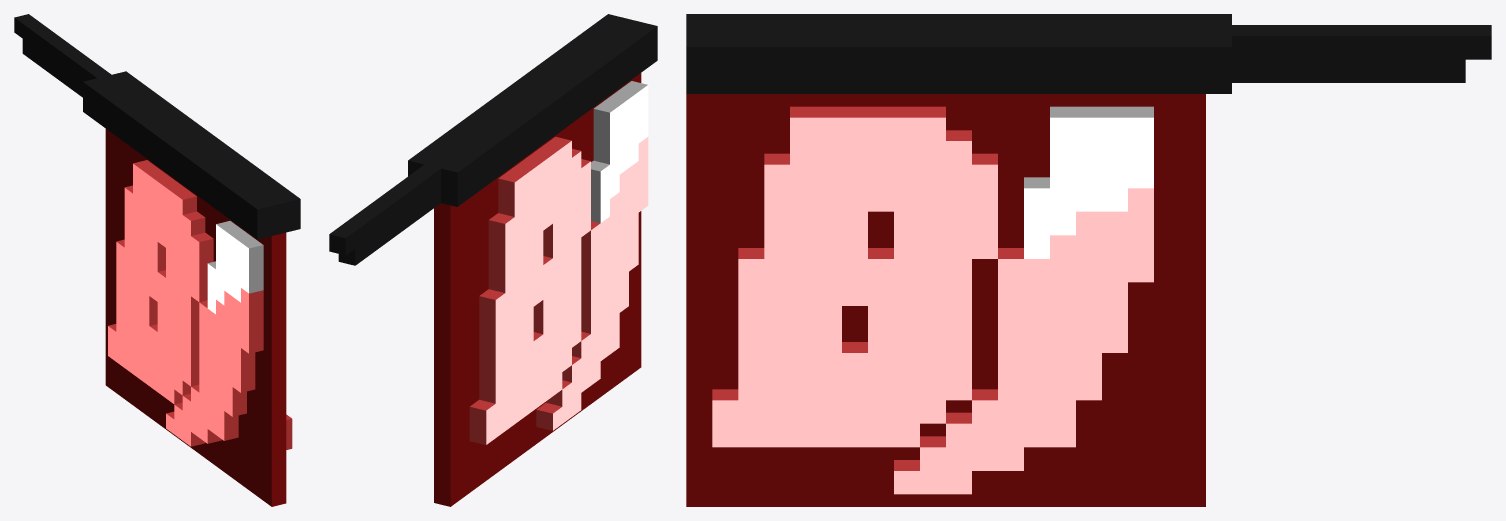
File: bjSign.glb
3 views of the same model, side by side, from view 1: azimuth 30°, elevation 25°; view 2: azimuth 150°, elevation 25°; view 3: azimuth 270°, elevation 25° (orthographic). The views are drawn at different scales.
Visible parts, largest first — view 1: ObjObject; view 2: ObjObject; view 3: ObjObject.
Part boxes in pixels (x1,y1,x2,y2): ObjObject: (14,14,300,506); ObjObject: (329,14,657,506); ObjObject: (686,14,1491,506).
Bounding box in the file's own units: 0.3 × 2 × 3.1.
3 materials, 1 textured.
